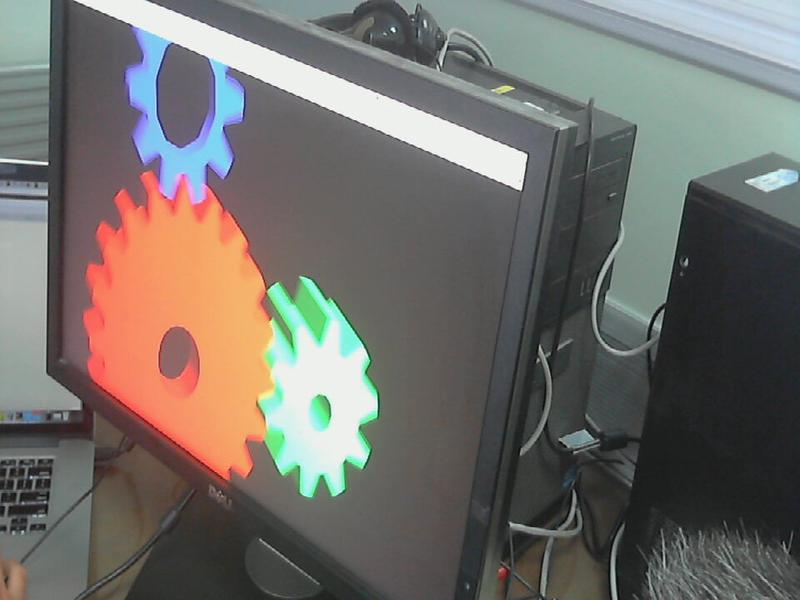glxgears_pass: (84, 8, 389, 501)
